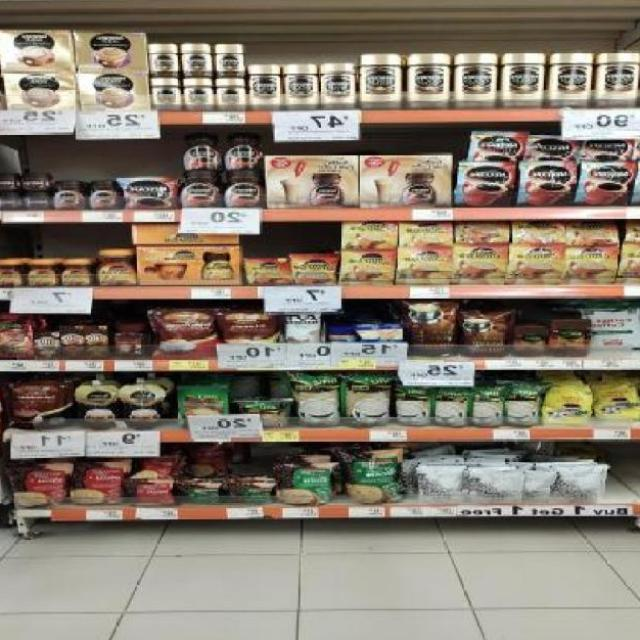Coffee: (595, 52, 640, 108), (502, 53, 542, 109), (454, 53, 494, 109), (407, 54, 447, 110), (461, 164, 513, 207), (361, 54, 400, 111), (522, 164, 572, 207), (551, 53, 590, 108), (580, 164, 631, 206), (454, 245, 503, 284), (510, 246, 561, 283), (342, 250, 392, 285), (567, 247, 614, 284), (401, 249, 449, 284), (126, 178, 173, 210), (286, 64, 318, 111), (248, 65, 280, 112), (180, 171, 220, 208), (471, 133, 523, 161), (323, 63, 353, 110), (99, 249, 134, 286), (227, 171, 261, 209), (346, 221, 395, 247), (401, 221, 450, 246), (185, 133, 219, 169), (292, 256, 335, 284), (227, 132, 260, 168), (569, 220, 615, 244), (514, 220, 561, 243), (528, 140, 574, 161), (89, 181, 121, 211), (151, 78, 179, 111), (584, 139, 631, 158), (216, 78, 243, 111), (216, 44, 243, 76), (150, 44, 177, 76), (186, 78, 212, 111), (184, 44, 210, 76), (55, 181, 83, 209), (61, 260, 89, 286), (29, 260, 55, 286), (0, 260, 20, 286), (22, 192, 50, 210), (21, 174, 49, 191), (0, 191, 19, 210), (0, 172, 18, 190)
